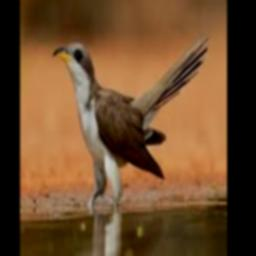Cuckoo: (52, 32, 208, 208)
